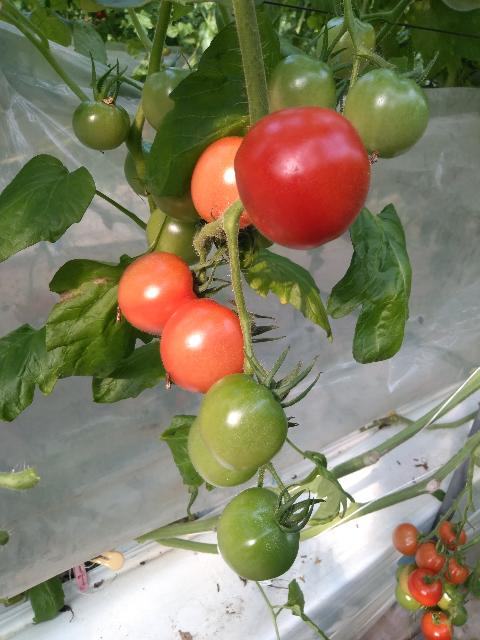l_fully_ripened: (233, 106, 371, 251), (160, 298, 253, 394), (118, 251, 199, 336), (408, 567, 443, 606), (420, 611, 454, 640)
l_green: (198, 373, 288, 472), (215, 487, 300, 581), (344, 68, 430, 159), (187, 416, 261, 489), (266, 53, 338, 114), (146, 208, 213, 267), (317, 16, 375, 79), (140, 67, 196, 131), (72, 99, 131, 151), (150, 189, 204, 223), (125, 141, 153, 197), (395, 582, 424, 610), (400, 562, 418, 599)
l_half_ripened: (191, 137, 253, 229), (415, 540, 448, 574), (392, 523, 421, 556), (437, 521, 467, 551), (444, 556, 468, 584)
